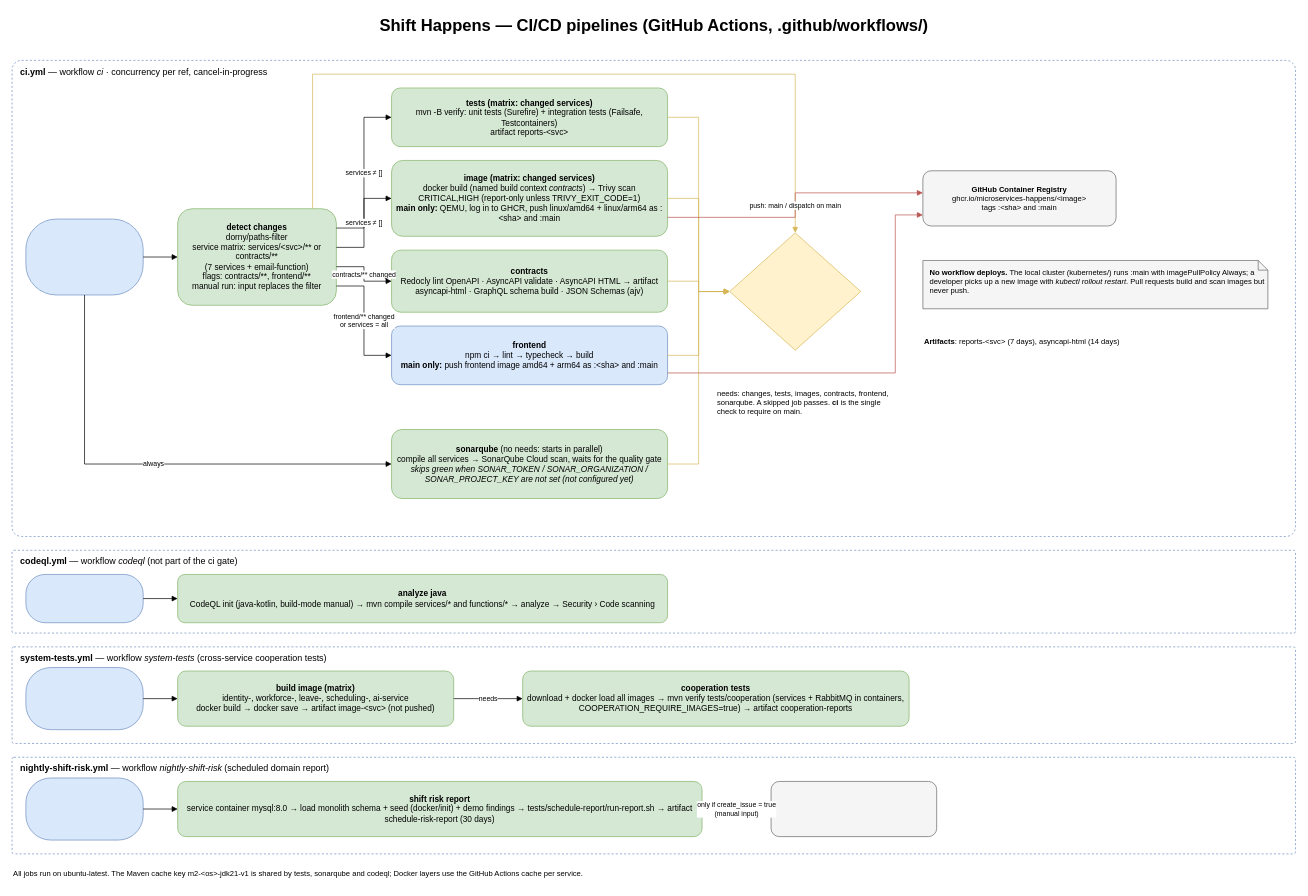
Image size: 1308x896. Some labels were removed from this diagram. Here are the shapes that lost their labels. From the top down, the centre of each, then its label:
At pixel 84 256: "on pull_request push: main workflow_dispatch (services = all | auto | list)".
At pixel 795 291: "ci aggregate gate if: always() fails on failure or cancelled".
At pixel 84 598: "on pull_request · push: main schedule Mon 05:00 UTC".
At pixel 84 698: "on push: main schedule 02:00 UTC daily workflow_dispatch".
At pixel 84 808: "on schedule 03:00 UTC daily workflow_dispatch (horizon_days, create_issue)".
At pixel 853 809: "GitHub issue “Nightly shift risk report” created or commented".
